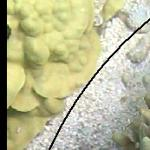alive: (9, 1, 147, 146)
